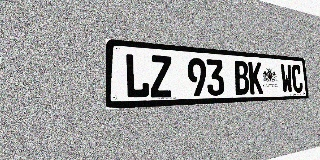3: (206, 59, 224, 96)
9: (187, 57, 207, 96)
B: (233, 61, 250, 95)
C: (291, 65, 303, 93)
K: (248, 62, 263, 94)
L: (124, 53, 150, 99)
W: (280, 64, 293, 93)
Z: (150, 55, 173, 98)
